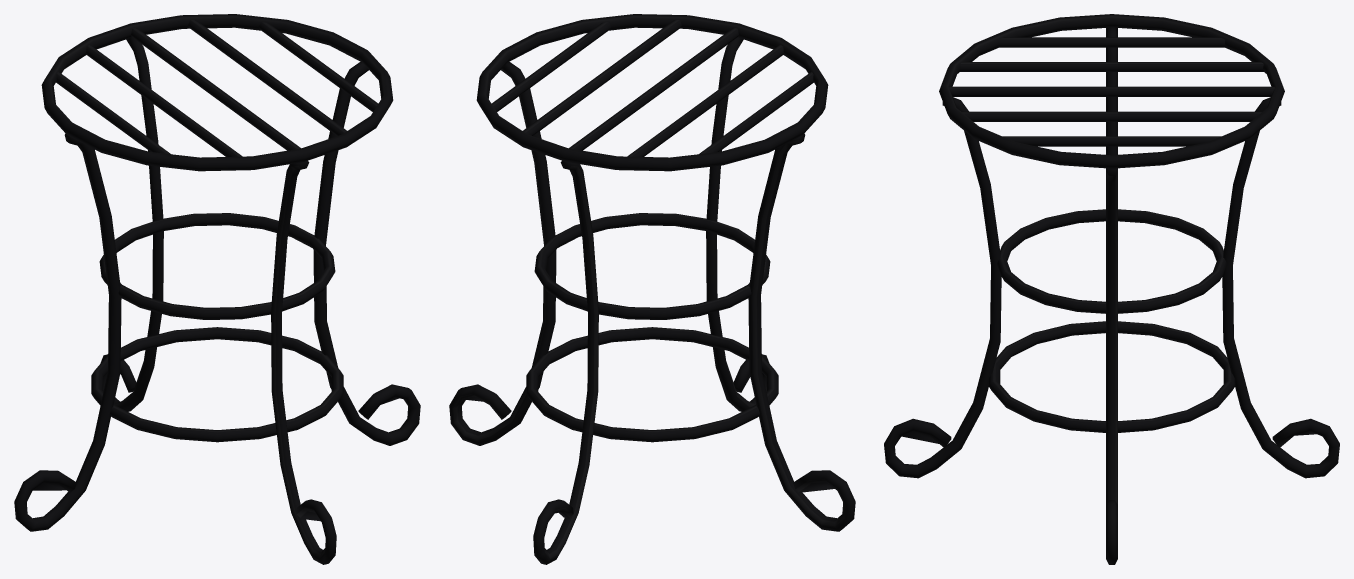
The model's file is Furniture_flowerstand_01_LOD0.fbx.
3 views of the same model, side by side, from view 1: azimuth 30°, elevation 25°; view 2: azimuth 150°, elevation 25°; view 3: azimuth 270°, elevation 25° (orthographic). The views are drawn at different scales.
Visible parts, largest first — view 1: Furniture_flowerstand_01; view 2: Furniture_flowerstand_01; view 3: Furniture_flowerstand_01.
Boxes of the visible parts, bbox=[...] form: Furniture_flowerstand_01: bbox=[14, 14, 420, 564]; Furniture_flowerstand_01: bbox=[449, 14, 855, 564]; Furniture_flowerstand_01: bbox=[884, 14, 1339, 564].
Size of the model in its own units: 31.74 by 30.05 by 31.74.
